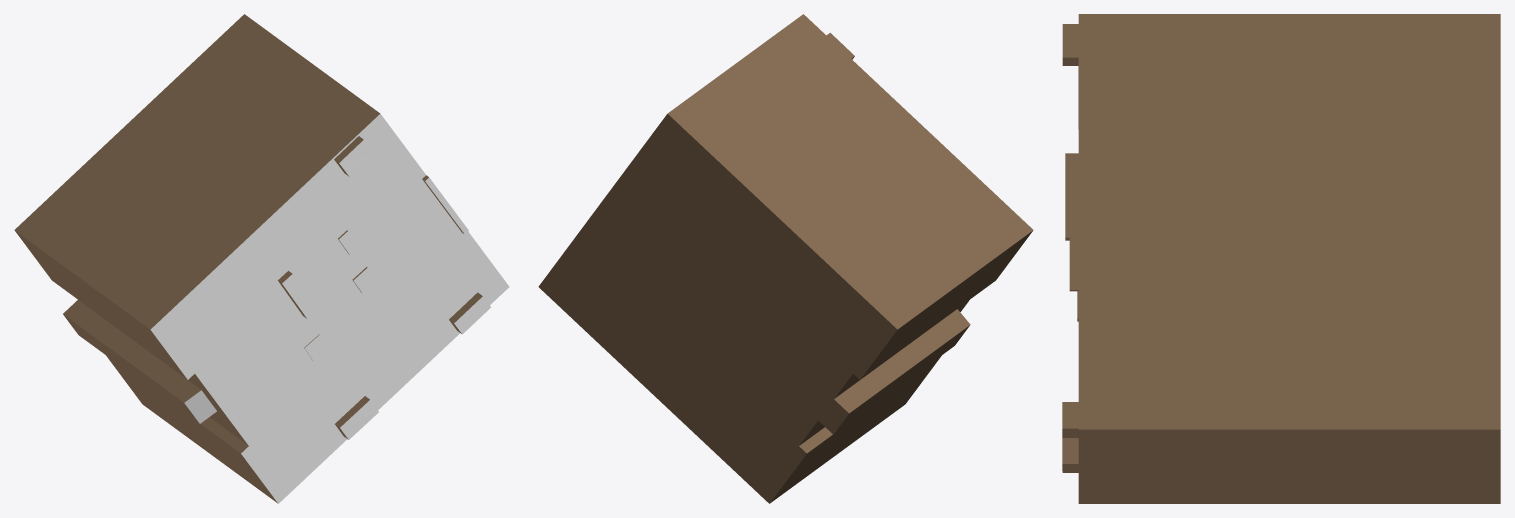
The picture shows the model from 3 angles, left to right: view 1: azimuth 30°, elevation 25°; view 2: azimuth 150°, elevation 25°; view 3: azimuth 270°, elevation 25°; orthographic projection. The views are drawn at different scales.
Parts seen in each view (by area): view 1: City_PC-10316; view 2: City_PC-10316; view 3: City_PC-10316.
Boxes of the visible parts, bbox=[...] form: City_PC-10316: bbox=[14, 14, 509, 503]; City_PC-10316: bbox=[538, 14, 1033, 503]; City_PC-10316: bbox=[1062, 14, 1500, 503].
Bounding box in the file's own units: 2256 × 2194 × 1537.
